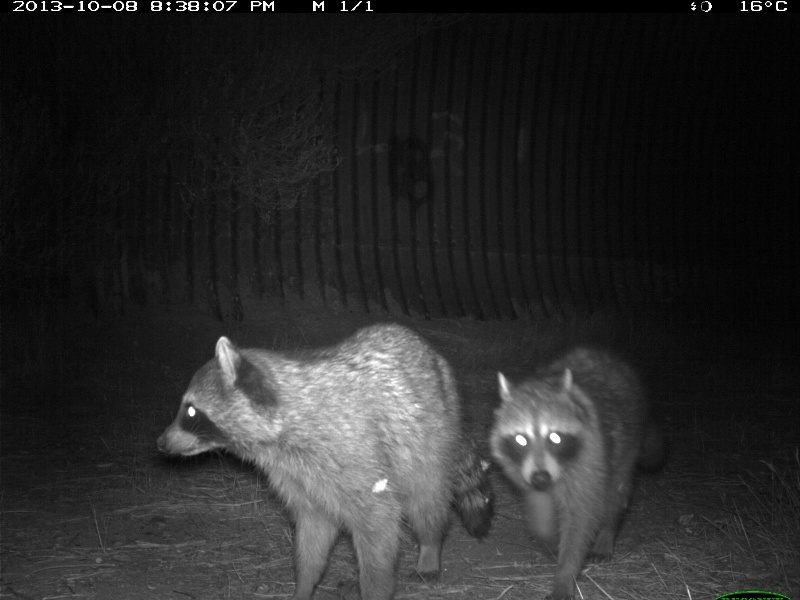raccoon: (152, 318, 494, 597), (485, 342, 669, 596)
